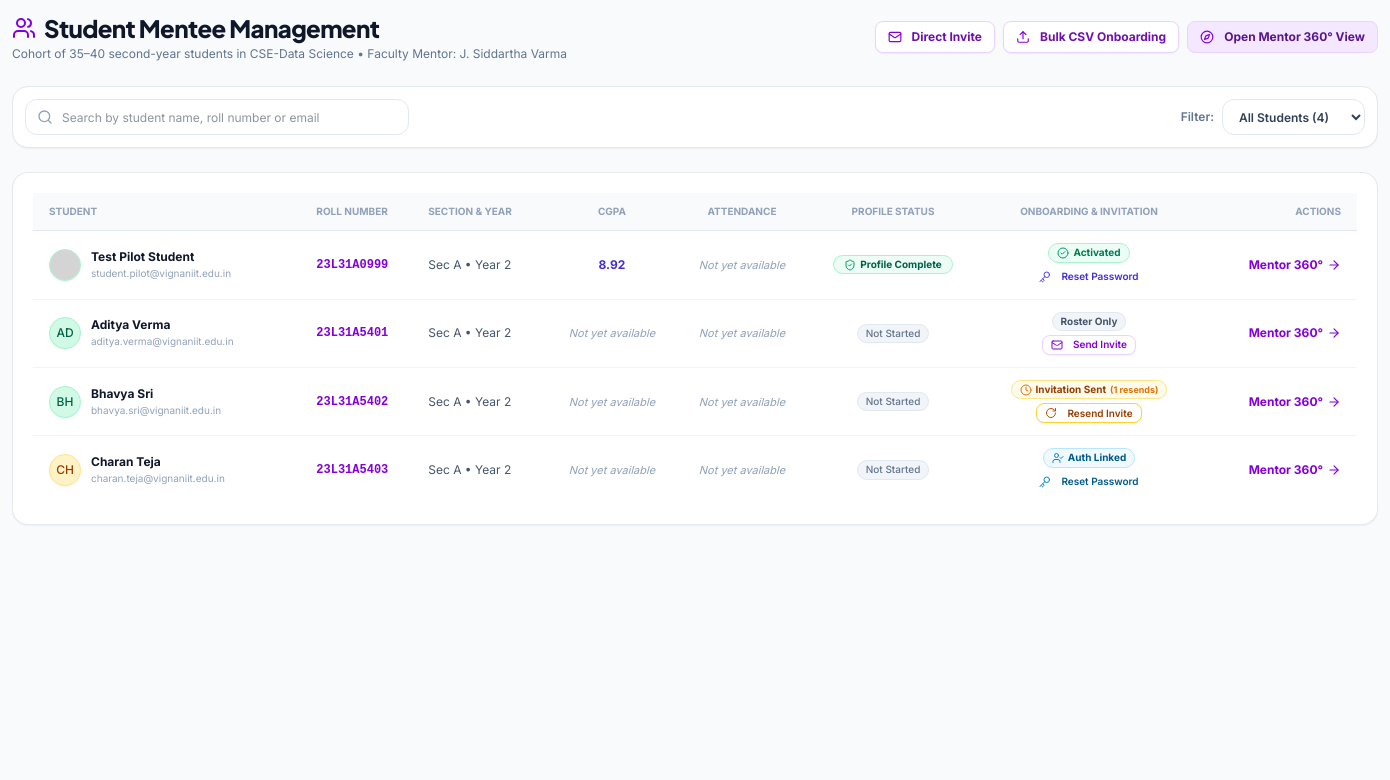
Test: Mentor Connect — Admin Student Management Finalization for Real Onboarding › 7. reports explicit persistence warning when Supabase GoTrue succeeds but database audit logging fails
Expected: the text "23L31A5401" is shown, [308,299,420,368]
Click the button "Send Invite" at [1089, 345], box [1042,335,1136,355]
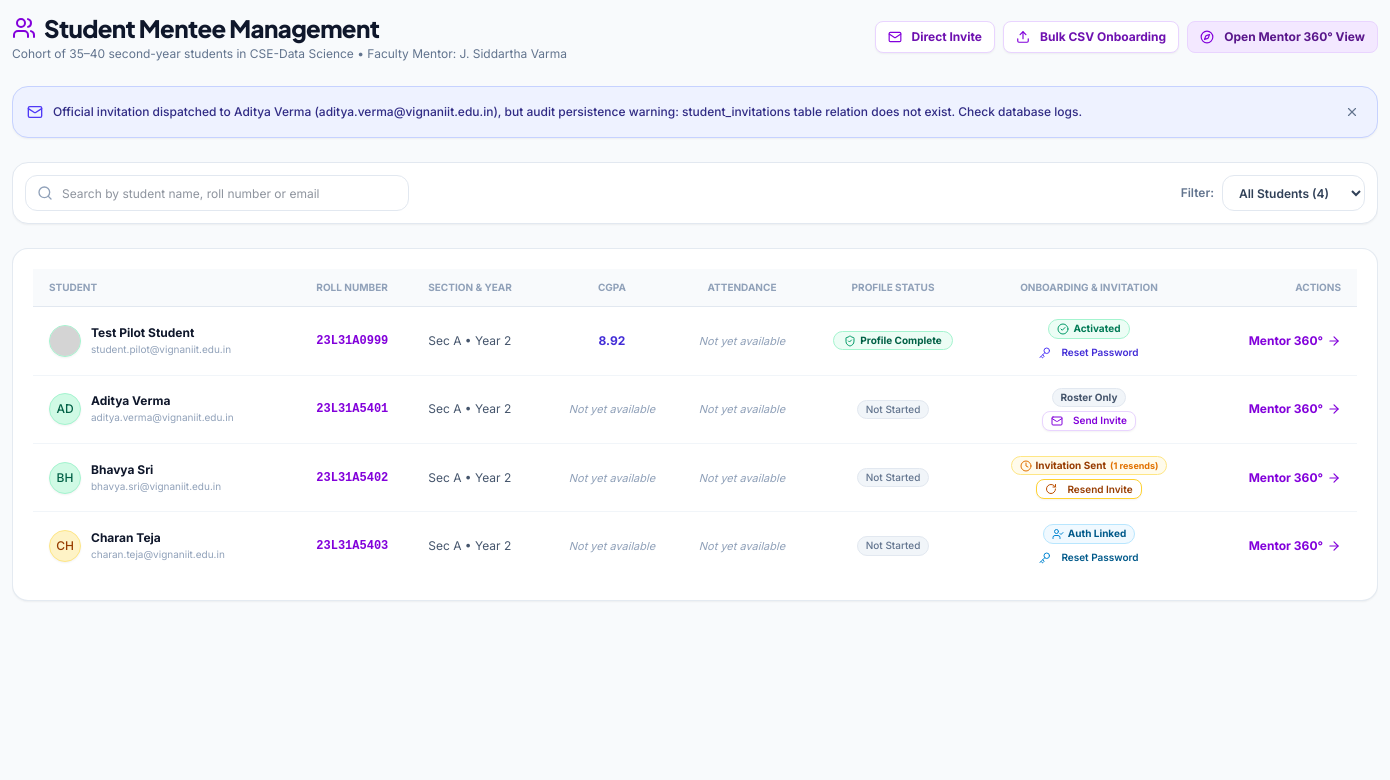
Now the text "audit persistence warning" is shown, box [53,104,1082,119]
